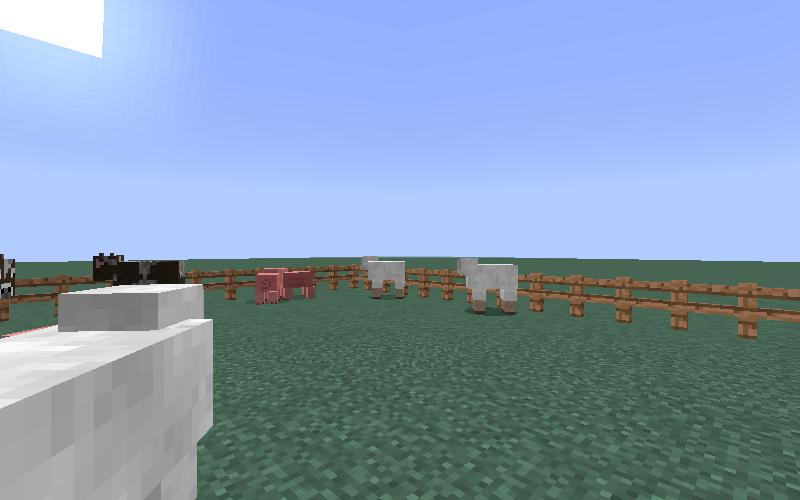cow: (93, 252, 188, 284)
pig: (276, 258, 314, 305), (250, 264, 282, 308)
sheep: (1, 284, 212, 498), (451, 254, 523, 324), (358, 257, 407, 303)
